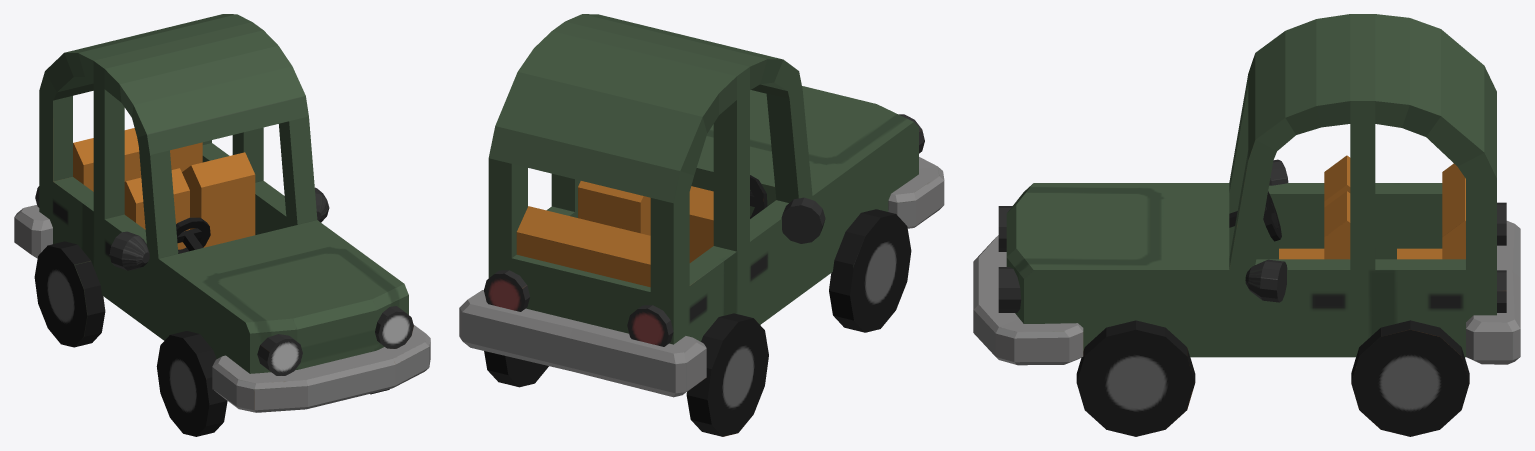
File: Car.FBX
3 views of the same model, side by side, from view 1: azimuth 30°, elevation 25°; view 2: azimuth 150°, elevation 25°; view 3: azimuth 270°, elevation 25° (orthographic). The views are drawn at different scales.
Visible parts, largest first — view 1: Car; view 2: Car; view 3: Car.
Boxes of the visible parts, x1=… form: Car: x1=14, y1=14, x2=430, y2=436; Car: x1=459, y1=14, x2=944, y2=436; Car: x1=973, y1=14, x2=1520, y2=436.
Bounding box in the file's own units: 71.2 × 91.28 × 139.
